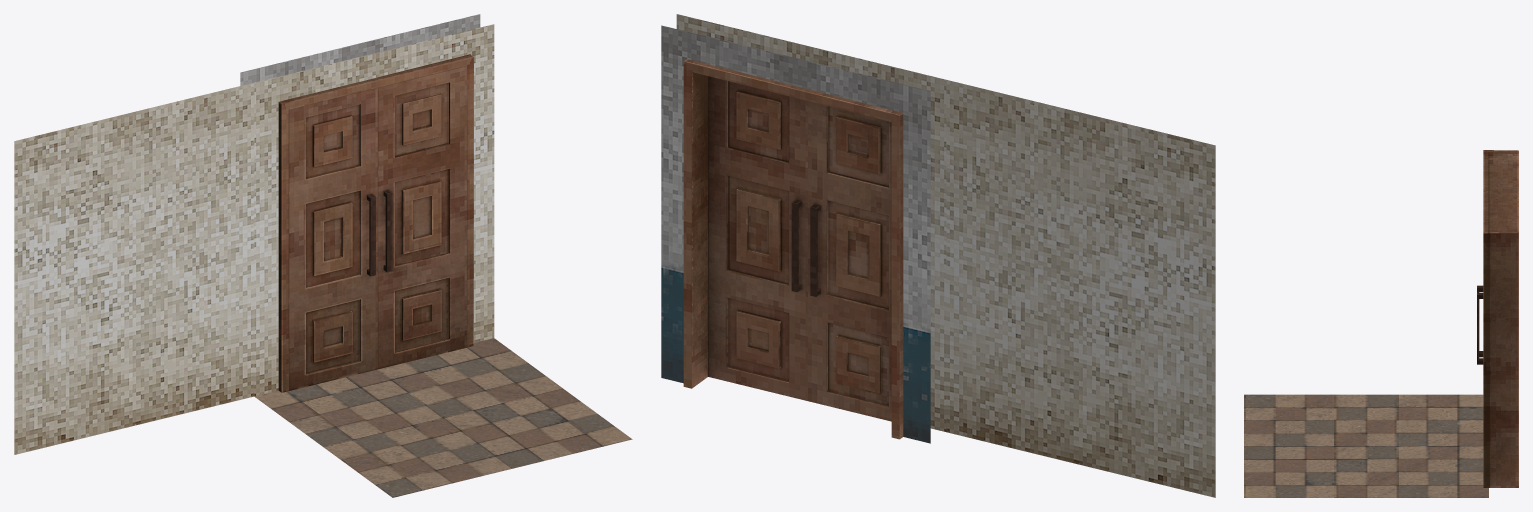
The model's file is front_door.fbx.
3 renders of one model, left to right at view 1: azimuth 30°, elevation 25°; view 2: azimuth 150°, elevation 25°; view 3: azimuth 270°, elevation 25°, orthographic. The views are drawn at different scales.
Parts seen in each view (by area): view 1: wall_beige, floor_outdoor, front_door_02, front_door_01, wall_doorway_front_beige, front_door_arc, wall_doorway_front_white_blue; view 2: wall_beige, front_door_02, front_door_01, wall_doorway_front_white_blue, front_door_arc, wall_doorway_front_beige; view 3: floor_outdoor, front_door_arc.
Part boxes in pixels (x1,y1,x2,y2): wall_beige: [14, 83, 254, 454]; floor_outdoor: [254, 338, 632, 497]; front_door_02: [378, 66, 466, 369]; front_door_01: [289, 88, 377, 390]; wall_doorway_front_beige: [254, 24, 494, 396]; front_door_arc: [278, 54, 473, 392]; wall_doorway_front_white_blue: [240, 14, 480, 85]; wall_beige: [946, 80, 1215, 497]; front_door_02: [708, 76, 807, 400]; front_door_01: [808, 101, 891, 421]; wall_doorway_front_white_blue: [661, 25, 930, 443]; front_door_arc: [683, 59, 903, 439]; wall_doorway_front_beige: [676, 14, 946, 431]; floor_outdoor: [1244, 394, 1488, 497]; front_door_arc: [1483, 150, 1518, 487].
Bounding box in the file's own units: 400 × 250 × 225.
4 materials, 4 textured.
